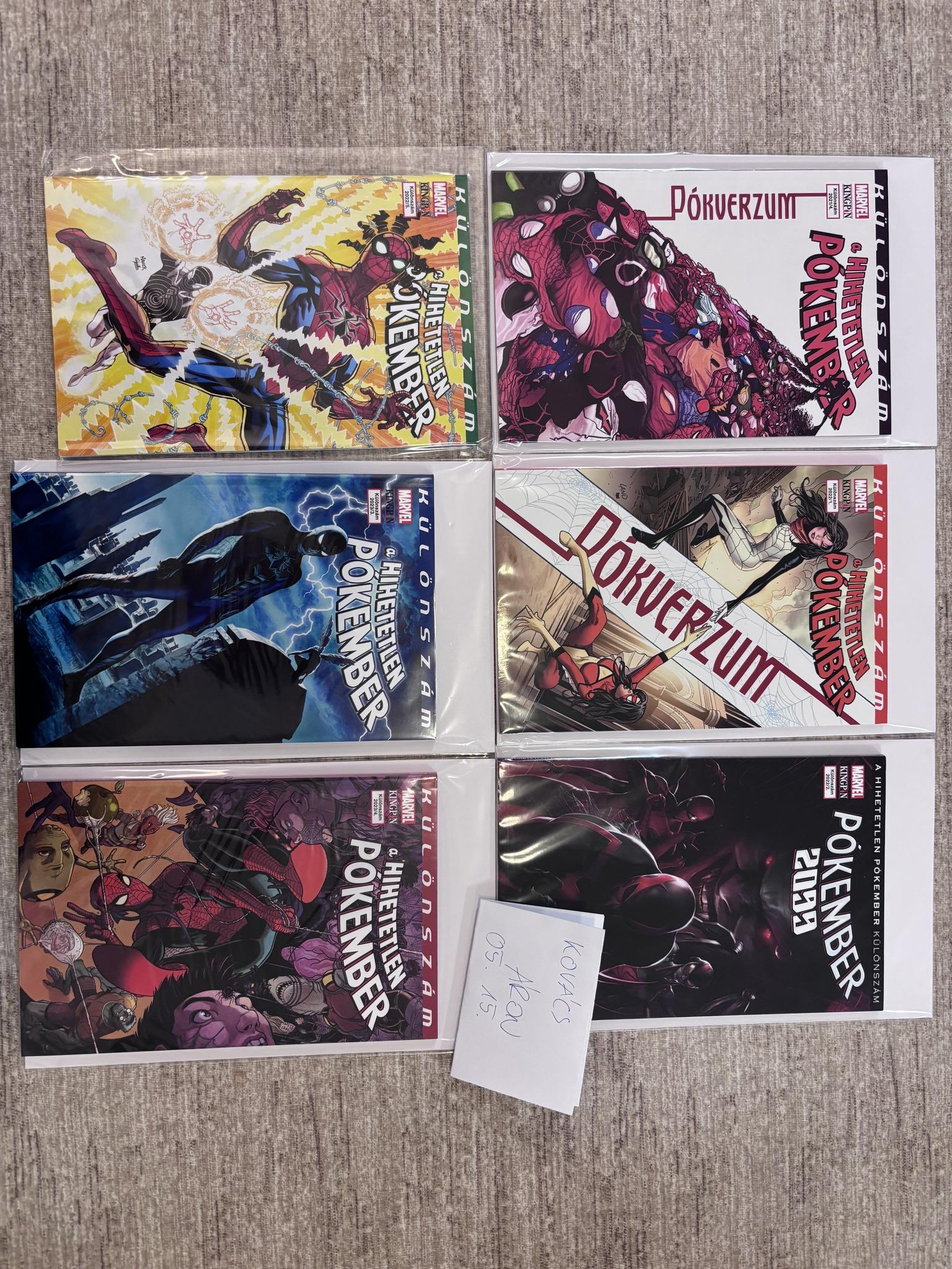comic: (10, 462, 442, 751), (15, 769, 442, 1058), (46, 172, 477, 456), (490, 156, 901, 441), (496, 460, 890, 736), (496, 751, 890, 1022)
